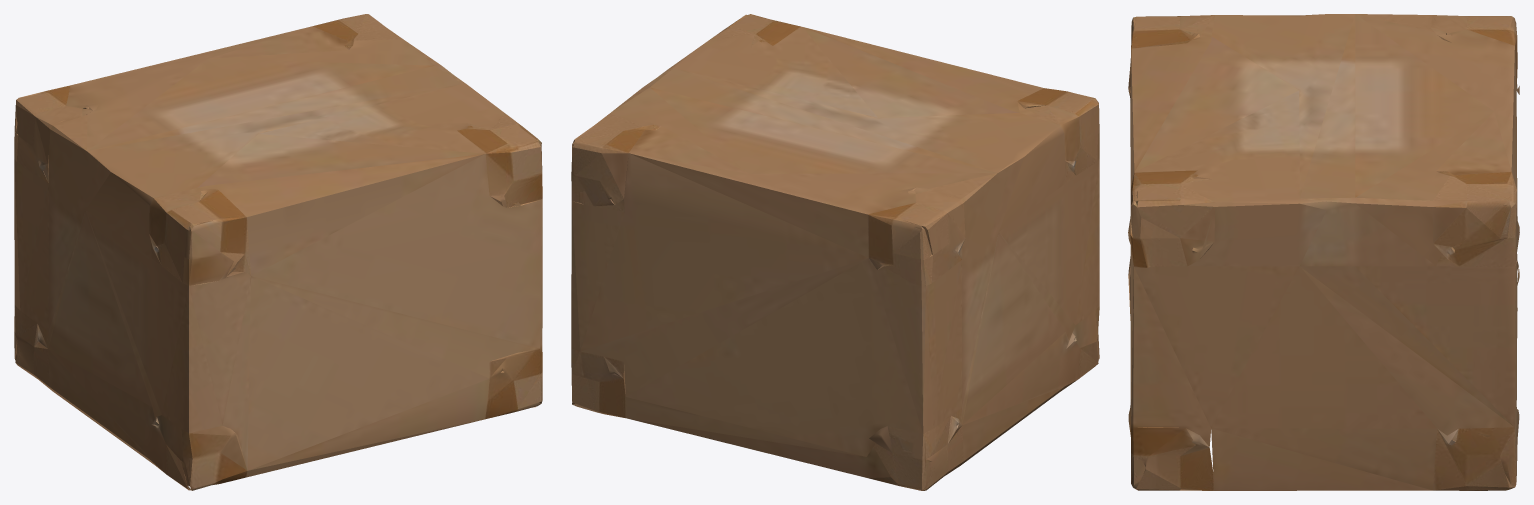
Rendered from carton.glb.
3 renders of one model, left to right at view 1: azimuth 30°, elevation 25°; view 2: azimuth 150°, elevation 25°; view 3: azimuth 270°, elevation 25°, orthographic. The views are drawn at different scales.
Bounding box in the file's own units: 1.9 × 1.36 × 1.63.
Materials: 1 (1 with a texture image).
